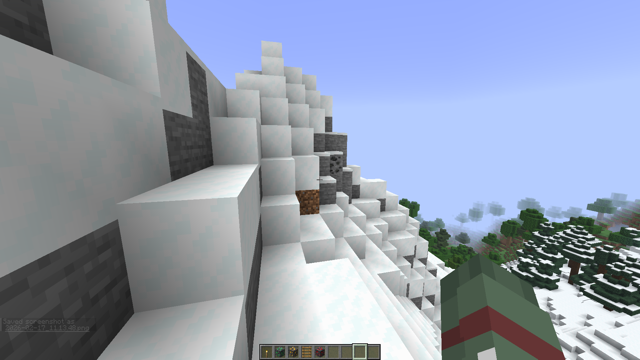coal: (326, 152, 345, 175)
